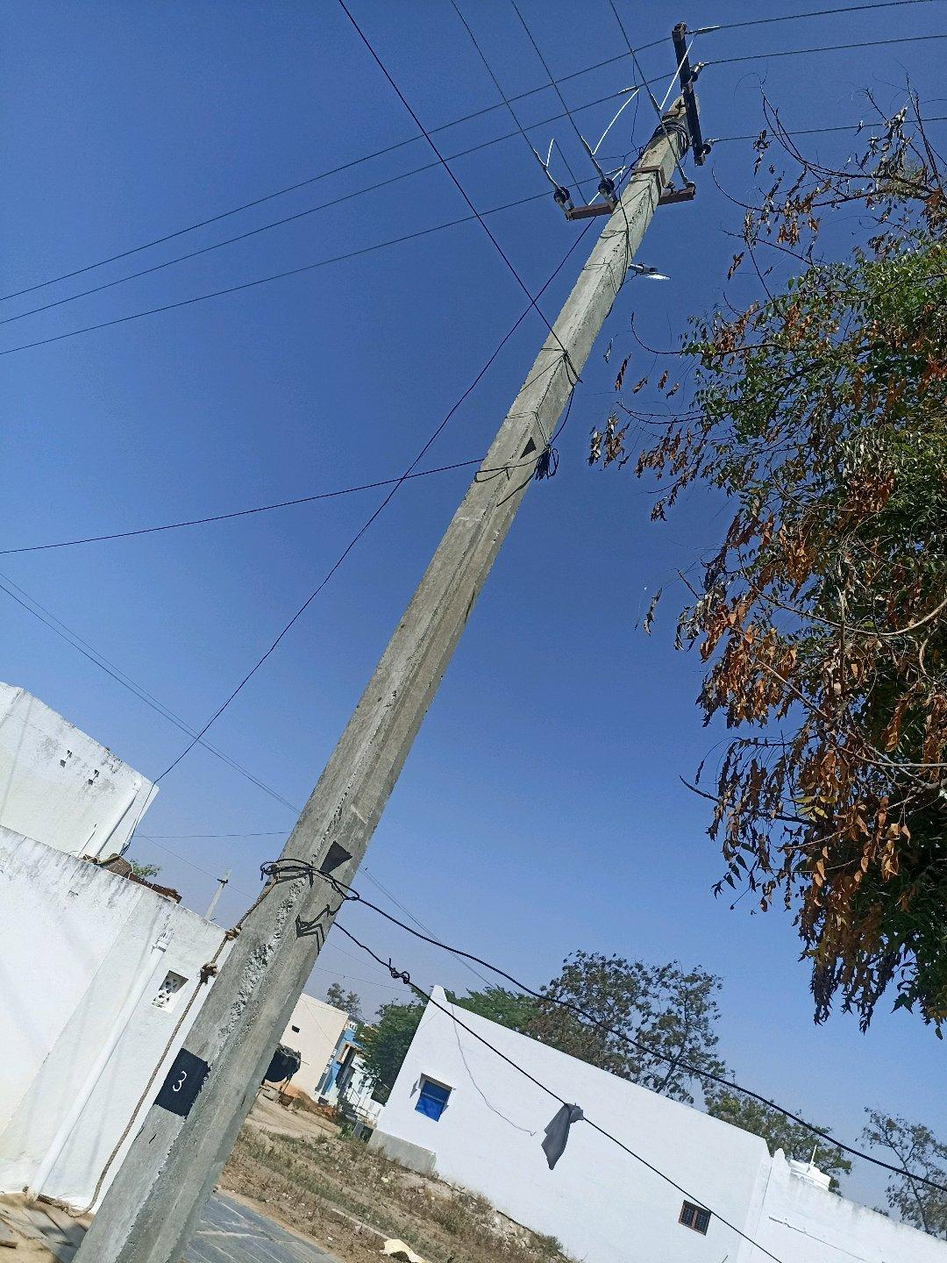{"0" "insulator", "1" "pole", "2" "crossarm", "3" "conductor", "4" "street_: (74, 24, 708, 1262), (694, 29, 708, 33)
